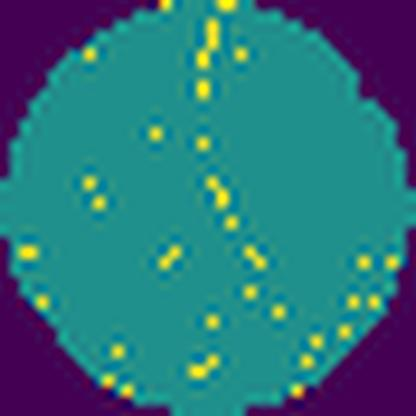Scratch: (188, 12, 273, 273)
